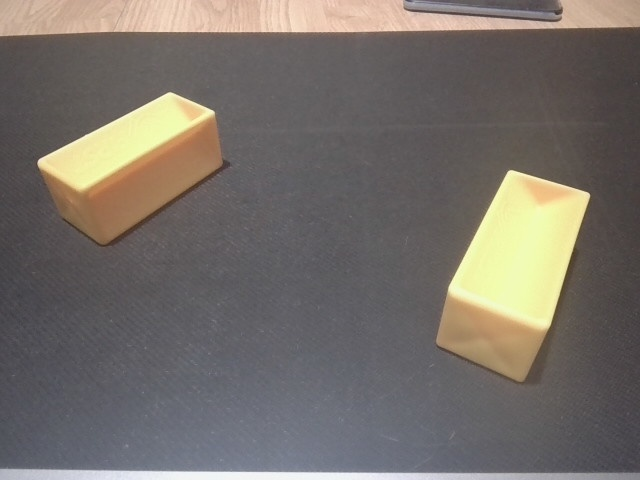YellowSample: (433, 163, 596, 389), (30, 88, 229, 246)
